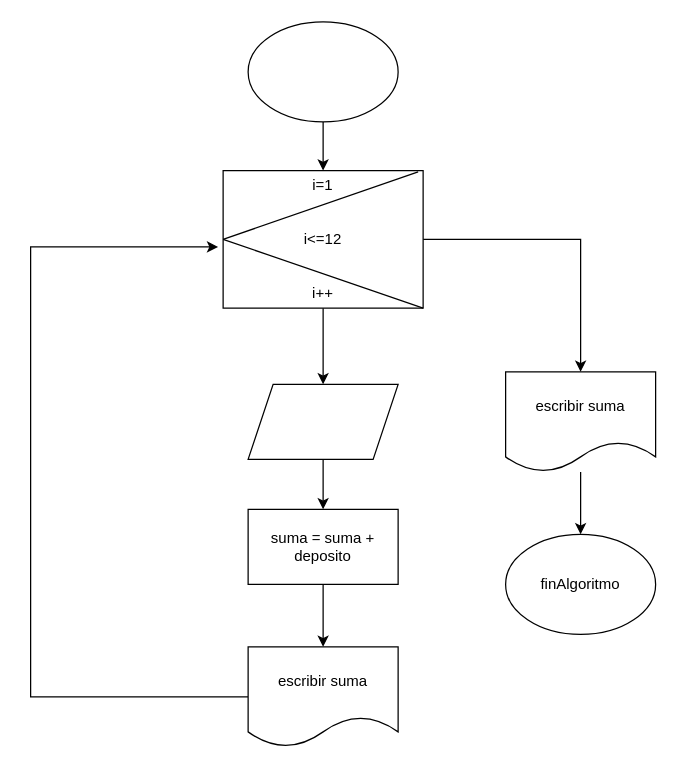
The diagram is 678 pixels wide and 769 high, and some of its shapes have lost their labels. The shapes that lost their labels are listed below. From the top down, each one's centre as x and y in pixels, then its label:
(322,71): inicio
(322,421): ingresa deposito
